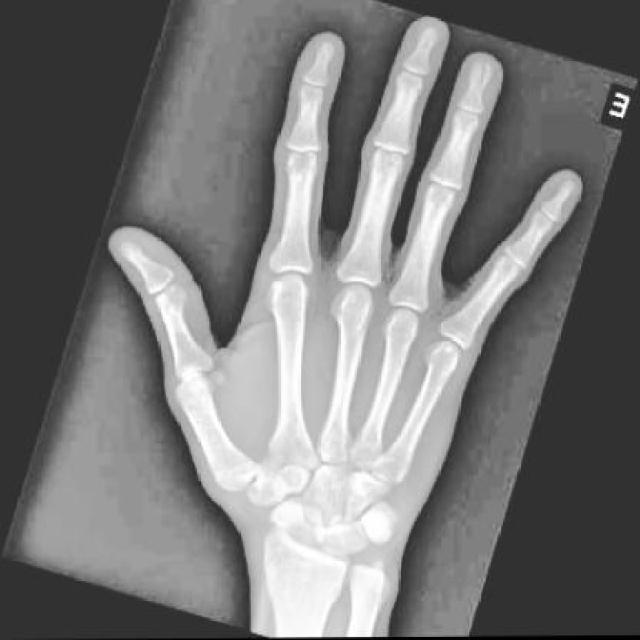Fracture: (162, 280, 196, 317), (471, 57, 499, 93)
